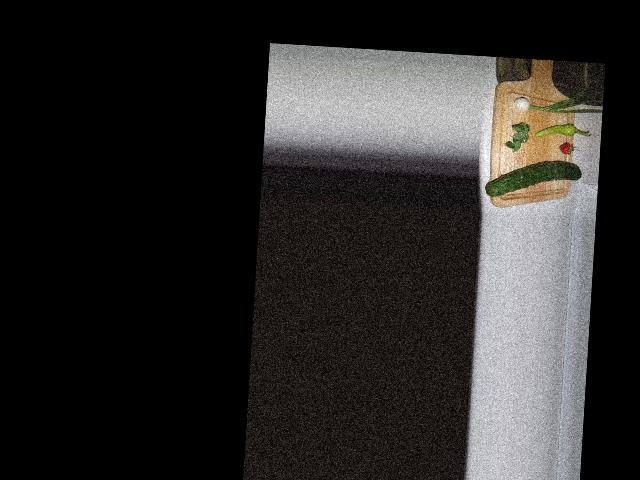cucumber: (485, 157, 581, 202)
